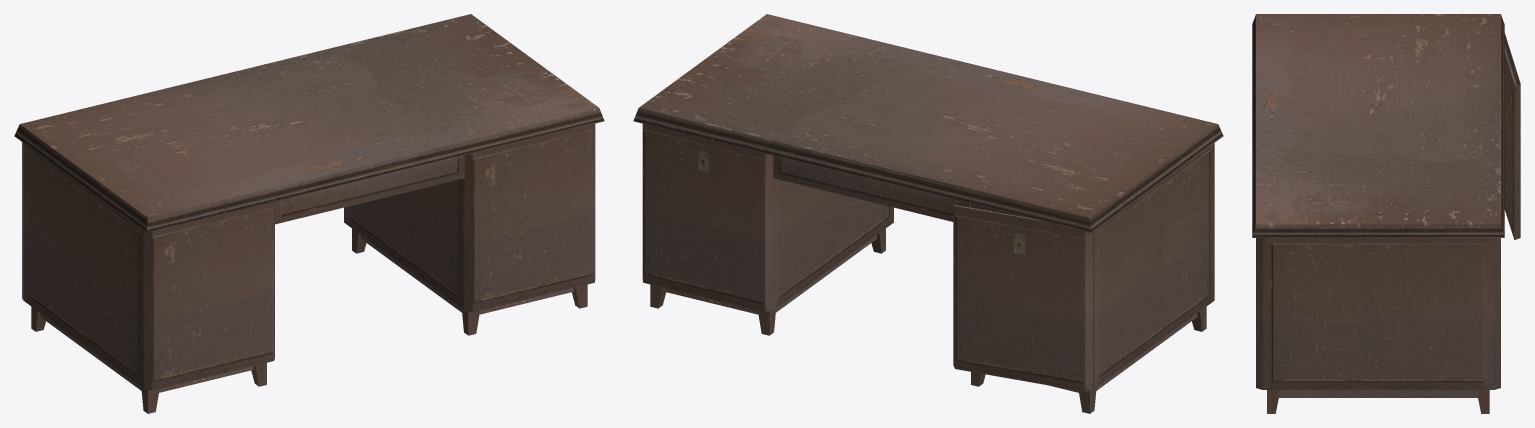
The model's file is ps2_old_table.glb.
The picture shows the model from 3 angles, left to right: view 1: azimuth 30°, elevation 25°; view 2: azimuth 150°, elevation 25°; view 3: azimuth 270°, elevation 25°; orthographic projection. The views are drawn at different scales.
Visible parts, largest first — view 1: Table_my_1.001; view 2: Table_my_1.001; view 3: Table_my_1.001.
Boxes of the visible parts, x1,y1,x2,y2 form: Table_my_1.001: (14,14,604,413); Table_my_1.001: (633,14,1223,413); Table_my_1.001: (1252,14,1520,413).
Bounding box in the file's own units: 1.57 × 0.6598 × 0.8343.
Materials: 1 (1 with a texture image).
